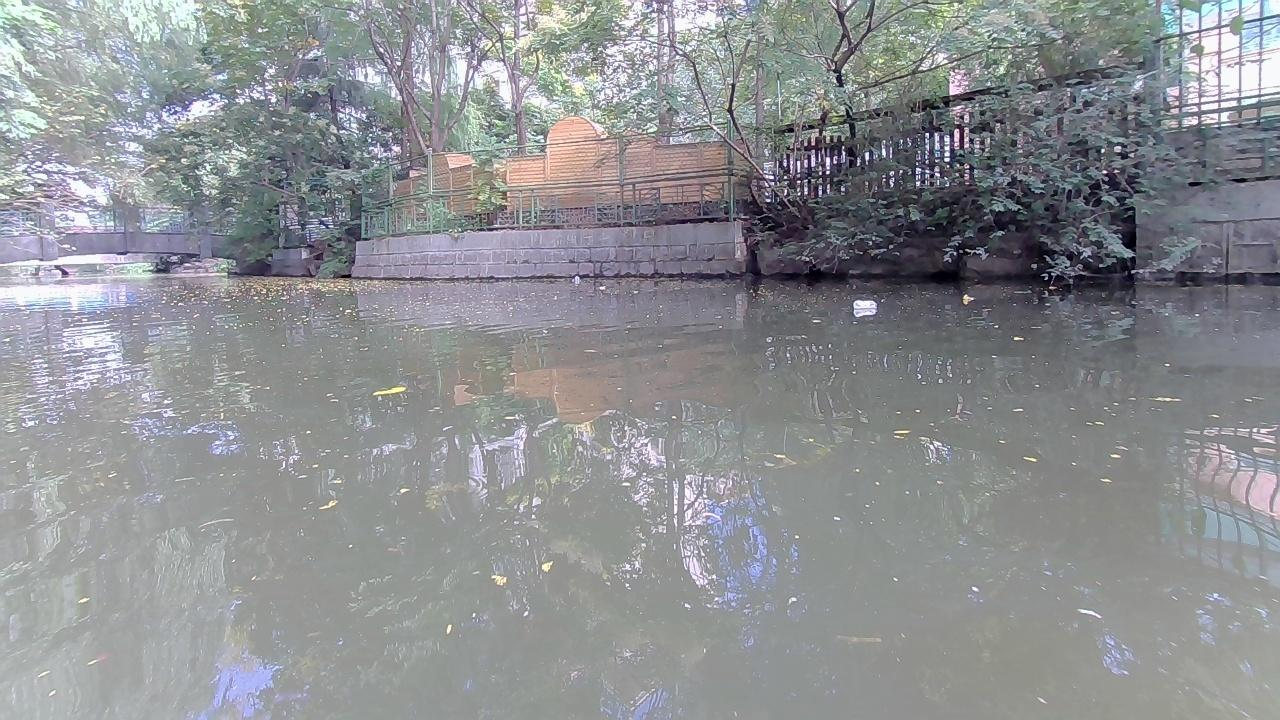bottle: (851, 296, 876, 313), (571, 274, 577, 278)
